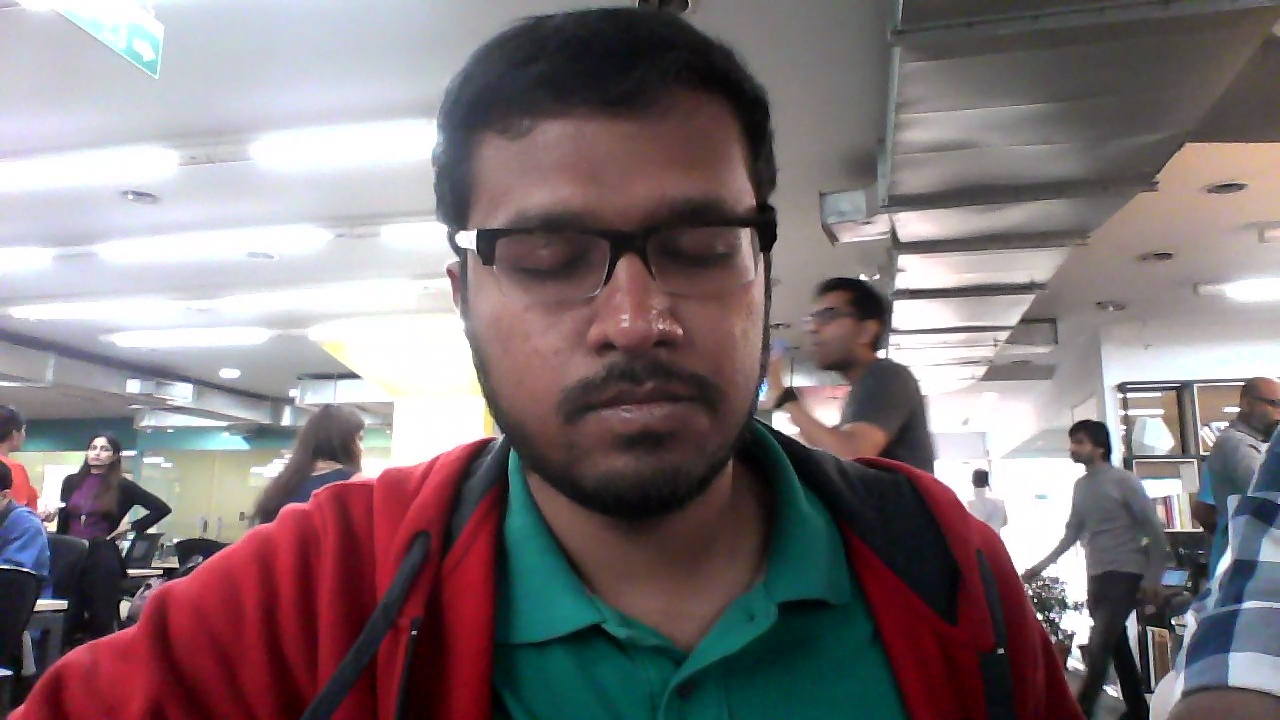closed: (437, 18, 785, 518)
